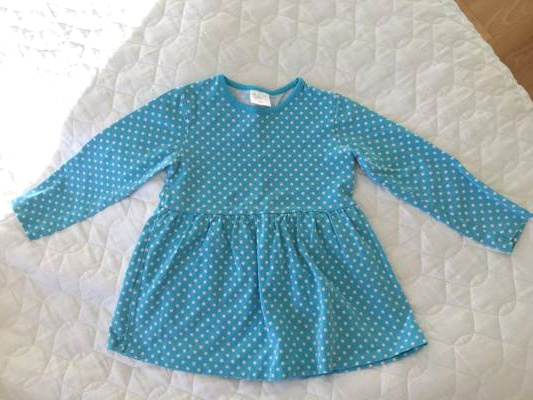Dress: (0, 78, 521, 385)
